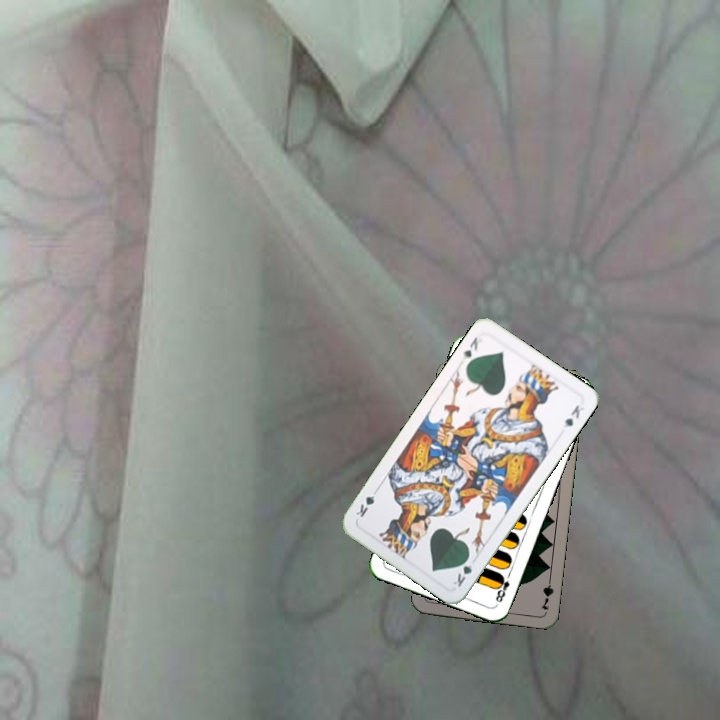E8: (491, 568, 513, 605)
G7: (537, 572, 556, 612)
GK: (449, 551, 475, 590), (458, 332, 481, 363)
